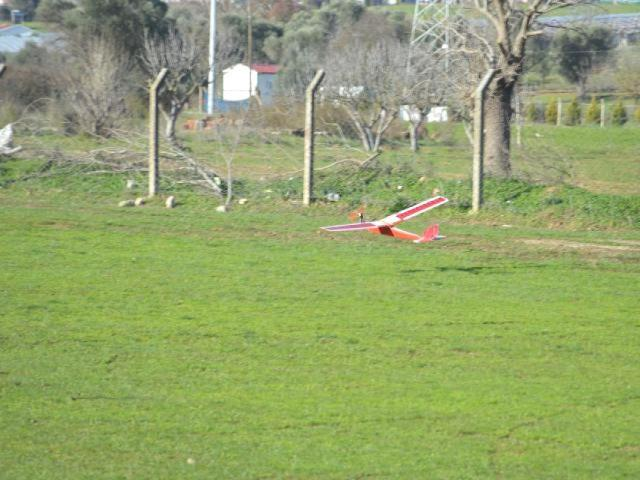iha: (315, 189, 457, 247)
